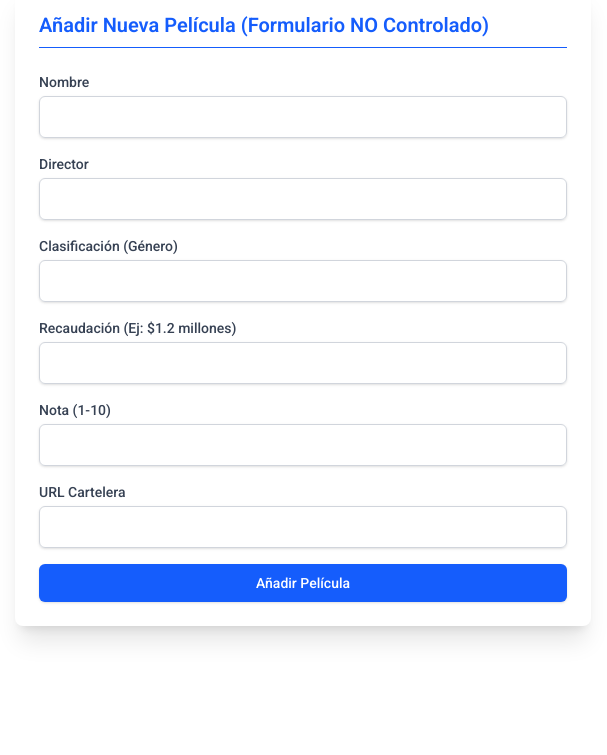
Test case: Actividad 10: Captura de Datos con Refs (No Controlado) › Los errores de validación NO deben aparecer al escribir, SOLO al enviar
This screenshot has width=607, height=755.
Step 1. Type "Steven Spielberg" into the field labelled "Director" → point(303, 199), box [39,178,567,220]
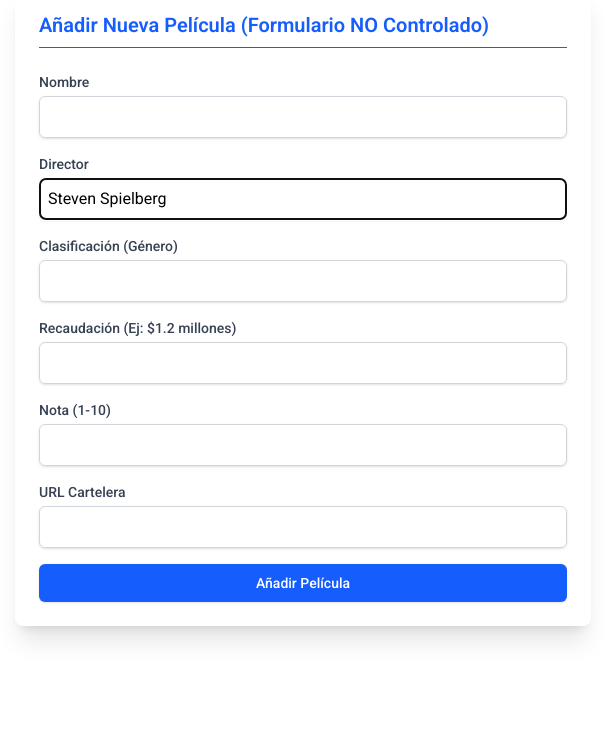
expect the text "El nombre es obligatorio." is not shown: met
Step 2. Click the button "Añadir Película" → point(303, 583), box [39,564,567,602]
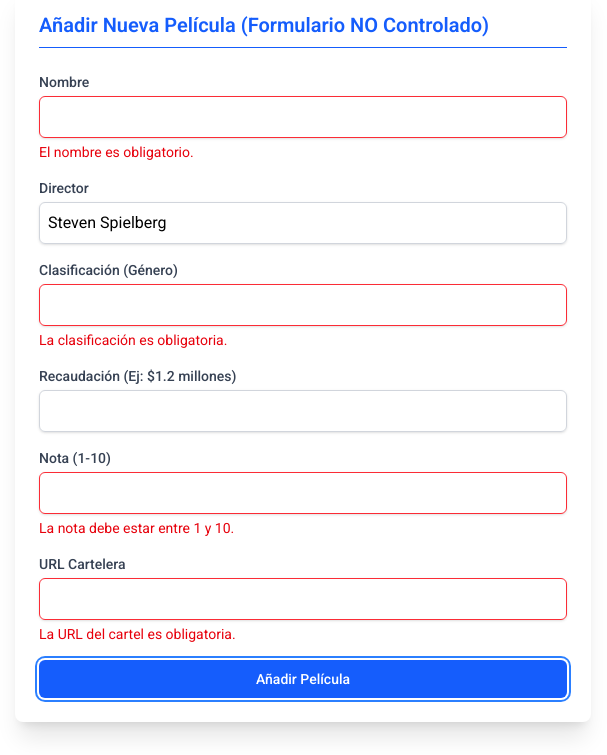
expect the text "El nombre es obligatorio." is shown: met, box [39,144,194,160]
